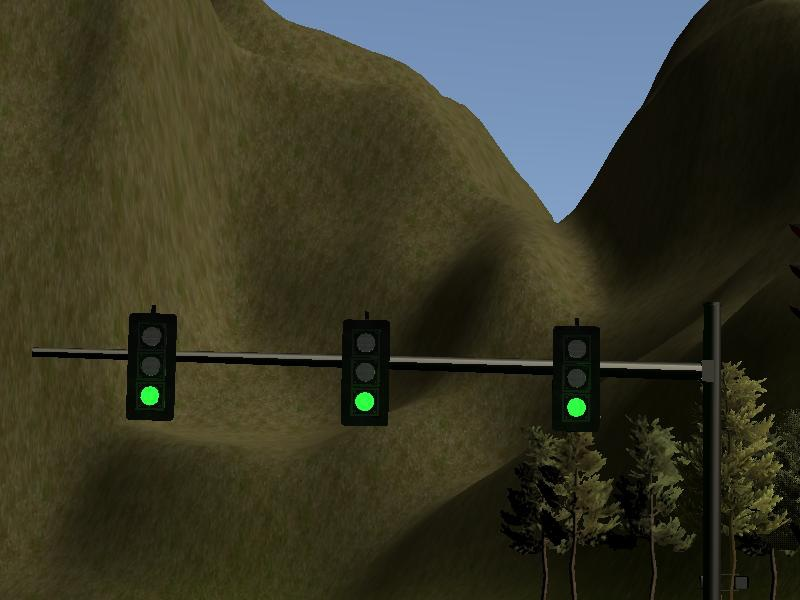Green: (343, 322, 386, 424)
